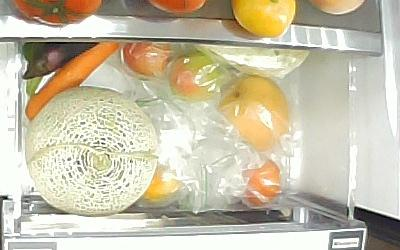cabbage: (194, 44, 312, 76)
carrot: (24, 42, 120, 120)
eggplant: (21, 41, 98, 79)
melon: (25, 85, 159, 217)
pear_vinyl: (218, 75, 290, 153)
prune_vinyl: (122, 41, 174, 77)
tangerine_vinyl: (144, 162, 180, 206)
tomato_vinyl: (170, 52, 222, 101), (238, 157, 282, 210)
zucchini: (22, 41, 44, 95)
